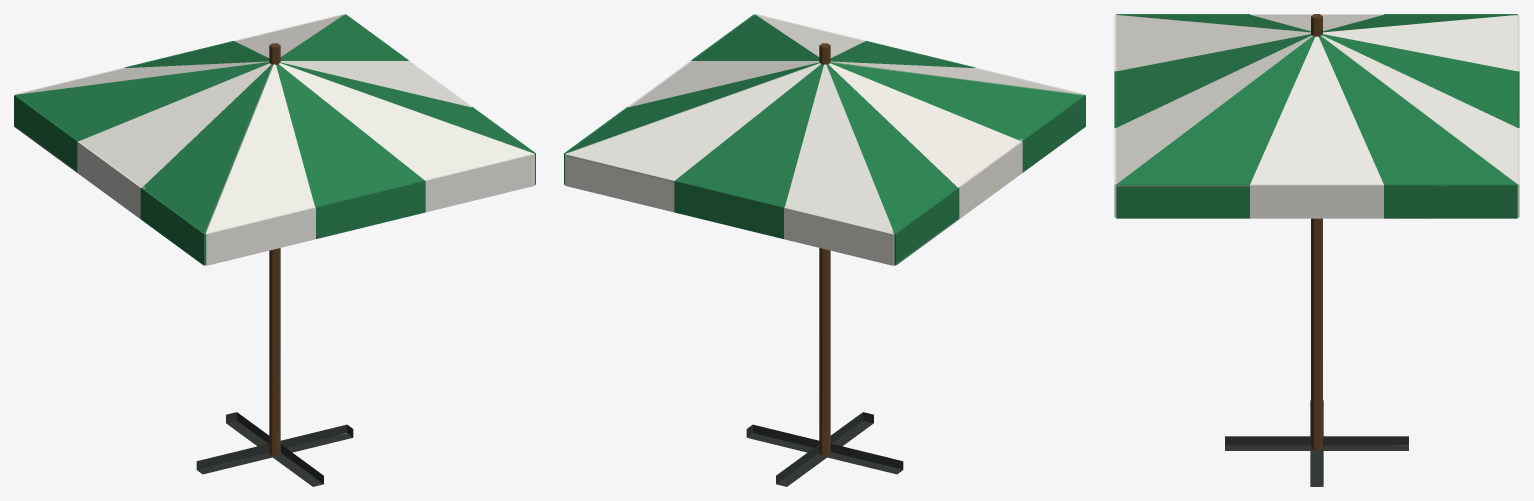
The model's file is slunecnik_ctverec_90a028fb.glb.
3 renders of one model, left to right at view 1: azimuth 30°, elevation 25°; view 2: azimuth 150°, elevation 25°; view 3: azimuth 270°, elevation 25°, orthographic. The views are drawn at different scales.
Visible parts, largest first — view 1: dum; view 2: dum; view 3: dum.
Boxes of the visible parts, left/top/right/bottom form: dum: left=14, top=14, right=535, bottom=486; dum: left=564, top=14, right=1085, bottom=486; dum: left=1114, top=14, right=1519, bottom=486.
Size of the model in its own units: 2.42 by 2.84 by 2.42.
1 material, 1 textured.
